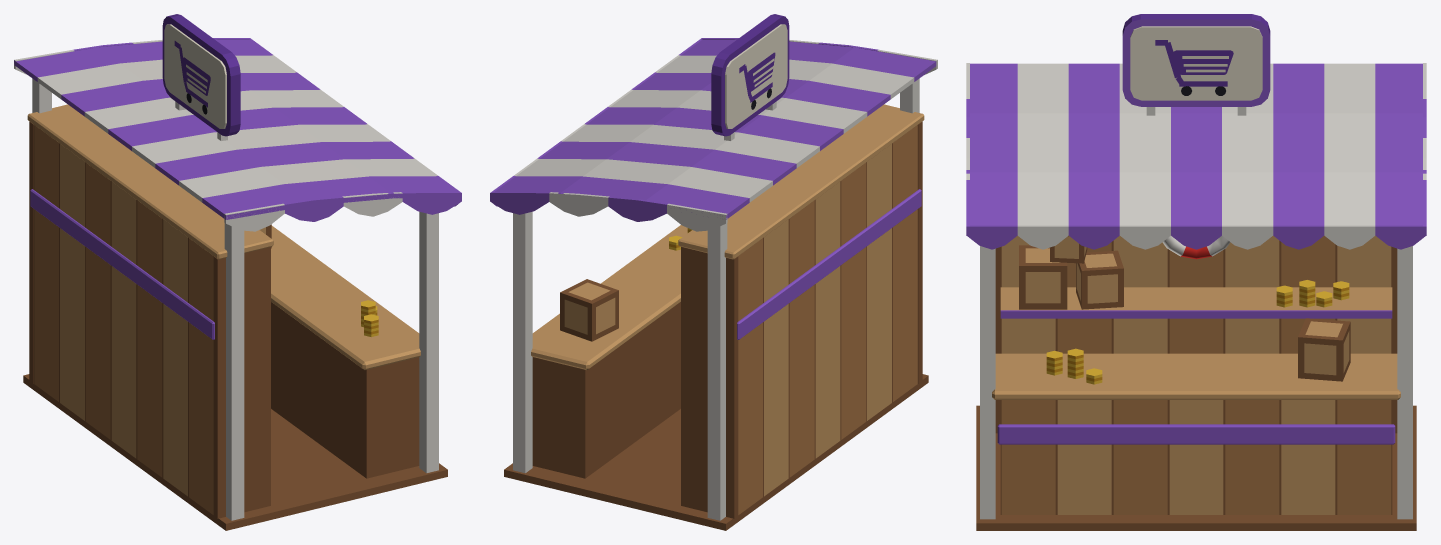
The model's file is stall_shop.glb.
The picture shows the model from 3 angles, left to right: view 1: azimuth 30°, elevation 25°; view 2: azimuth 150°, elevation 25°; view 3: azimuth 270°, elevation 25°; orthographic projection. The views are drawn at different scales.
Visible parts, largest first — view 1: StallShop; view 2: StallShop; view 3: StallShop.
Part boxes in pixels (box(x1,y1,x2,y2)): StallShop: box(14, 14, 461, 530); StallShop: box(490, 14, 937, 530); StallShop: box(966, 14, 1426, 530).
Bounding box in the file's own units: 2.08 × 3.4 × 3.24.
